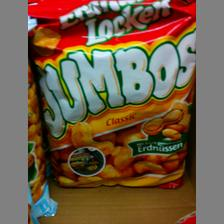Chips: (29, 0, 194, 188)
